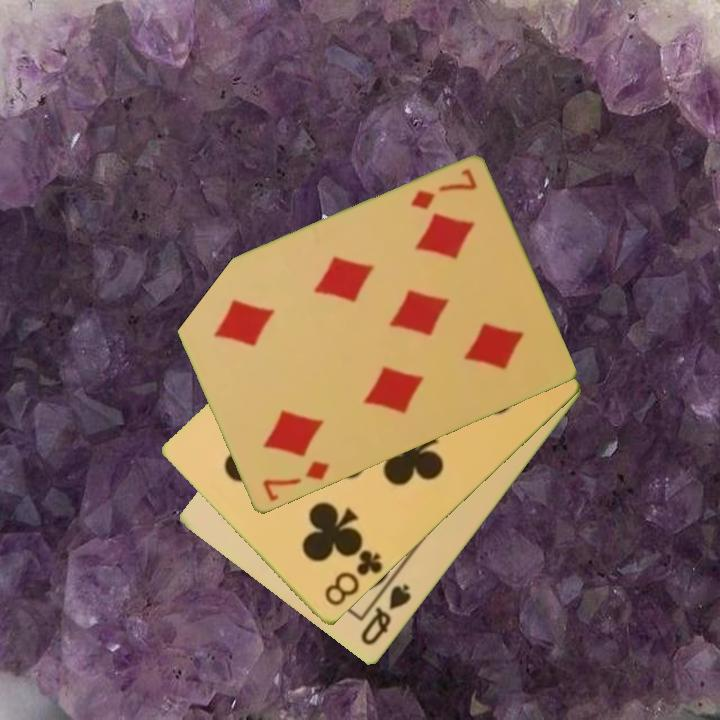7d: (259, 457, 333, 505), (406, 166, 480, 213)
8c: (321, 546, 386, 610)
Qs: (357, 580, 415, 650)
